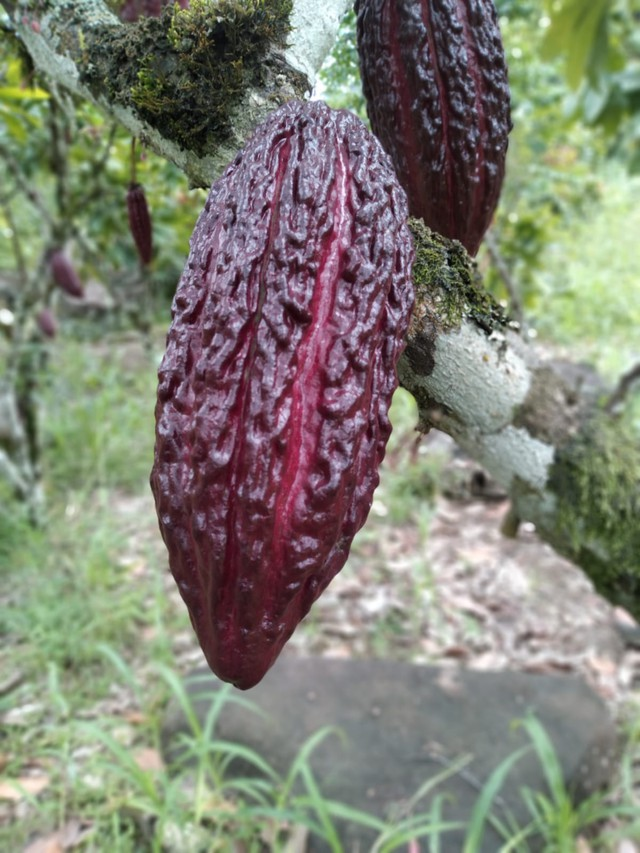Health: (130, 81, 438, 712)
